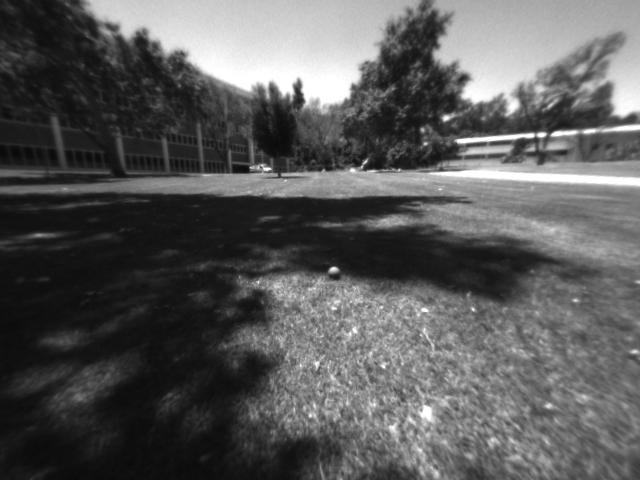dogtoy: (325, 264, 343, 281)
